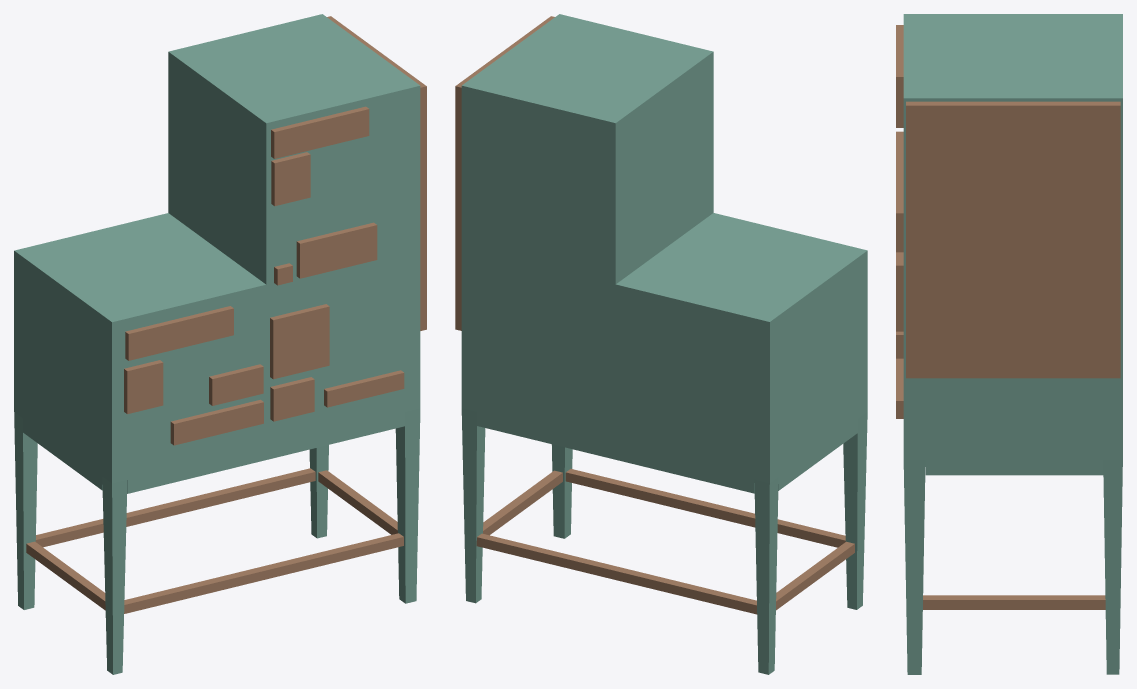
Rendered from Cabinet_leftdrawers.fbx.
The picture shows the model from 3 angles, left to right: view 1: azimuth 30°, elevation 25°; view 2: azimuth 150°, elevation 25°; view 3: azimuth 270°, elevation 25°; orthographic projection. The views are drawn at different scales.
Visible parts, largest first — view 1: Cabinet; view 2: Cabinet; view 3: Cabinet.
Boxes of the visible parts, <box> form: Cabinet: <box>14,14,426,674</box>; Cabinet: <box>455,14,867,674</box>; Cabinet: <box>896,14,1122,674</box>.
Bounding box in the file's own units: 123 × 192 × 68.29.
